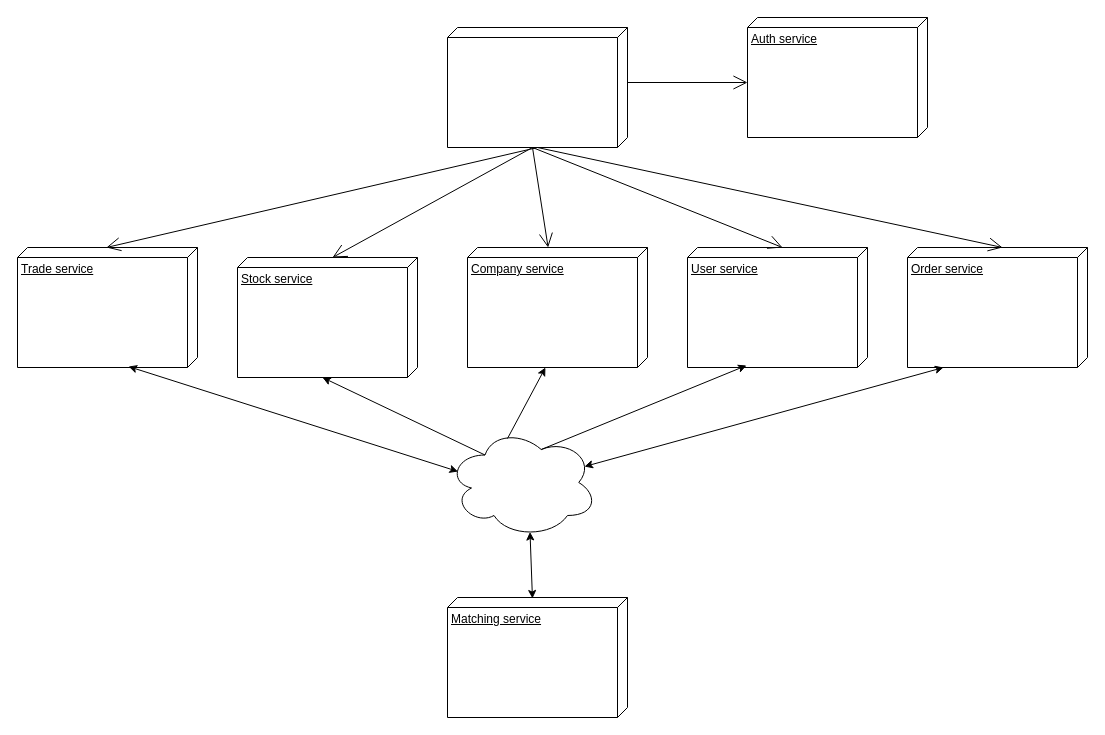
Some shapes in this 1105 by 735 pixel diagram are drawn without their labels. The shapes that lost their labels are listed below. From the top down, each one's centre as x and y in pixels, then its label:
the point at 537,87: API gateway
the point at 522,482: Message broker
